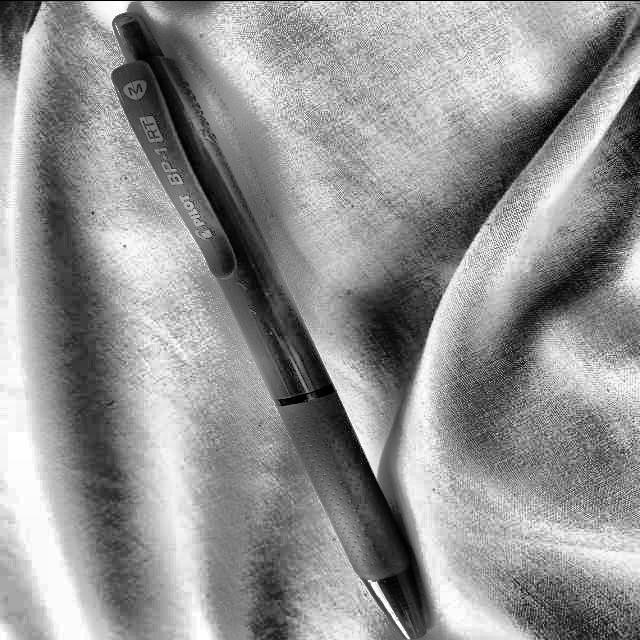Pen: (108, 9, 434, 639)
